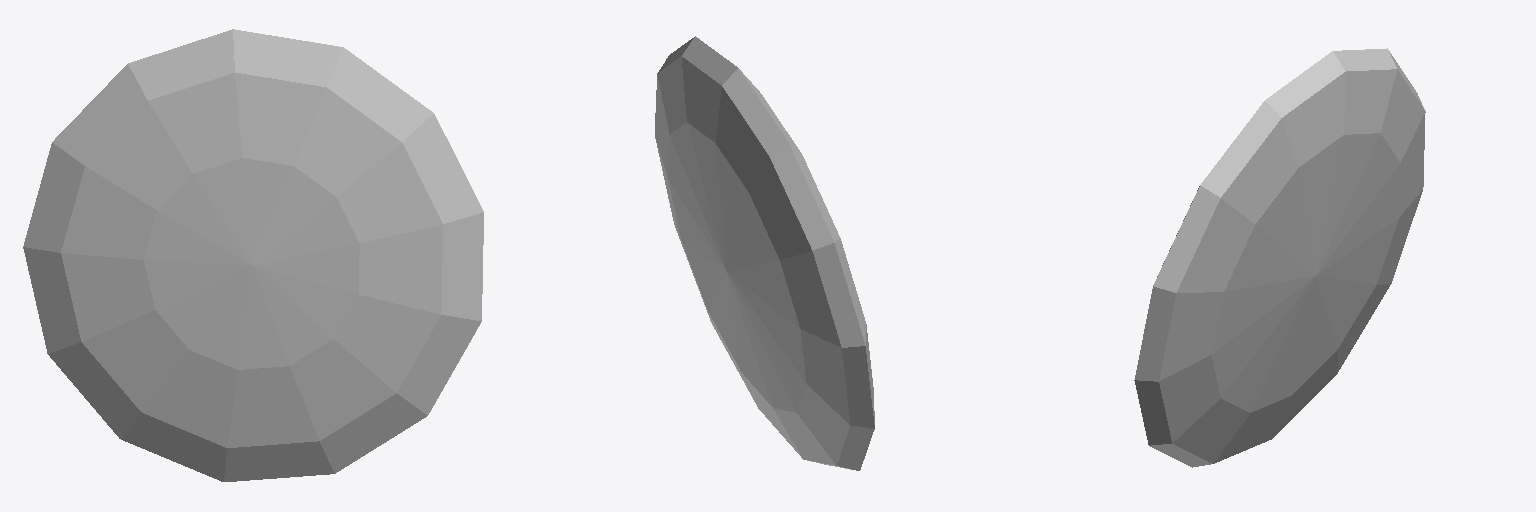
Rendered from SubTool-29-7485875.OBJ.
The picture shows the model from 3 angles: view 1: azimuth 30°, elevation 25°; view 2: azimuth 150°, elevation 25°; view 3: azimuth 270°, elevation 25°; orthographic projection.
Visible parts, largest first — view 1: Group4; view 2: Group4; view 3: Group4.
Part boxes in pixels (left/top/right/bottom): Group4: left=23, top=29, right=483, bottom=481; Group4: left=655, top=36, right=874, bottom=470; Group4: left=1134, top=48, right=1425, bottom=467.
Size of the model in its own units: 1.16 by 1.39 by 0.8866.